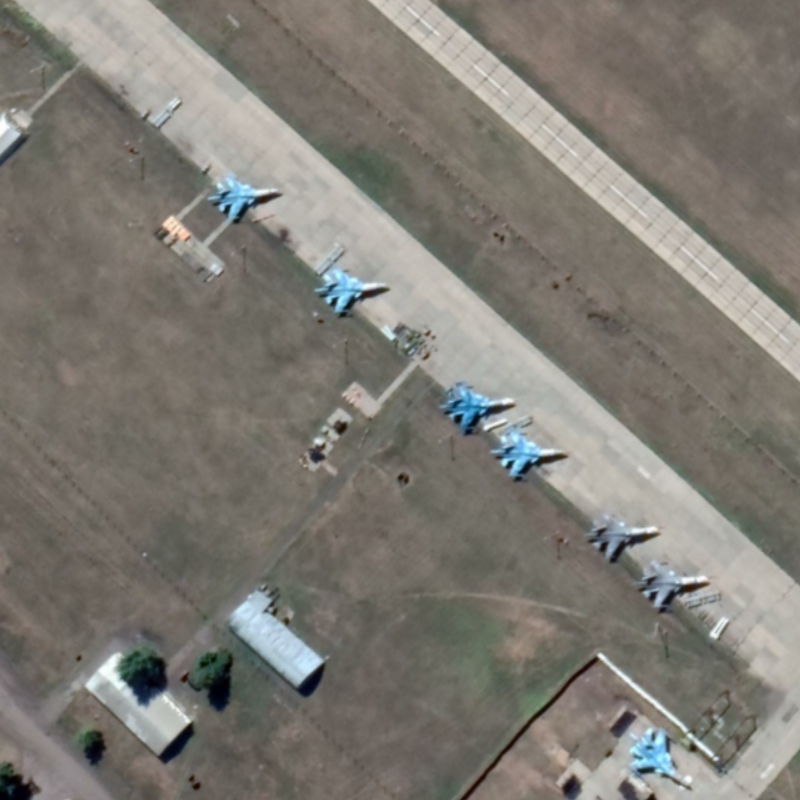A19: (625, 724, 698, 797), (433, 377, 519, 435), (487, 426, 571, 482), (203, 169, 285, 225), (635, 556, 711, 613), (313, 265, 391, 319), (581, 509, 662, 561)
